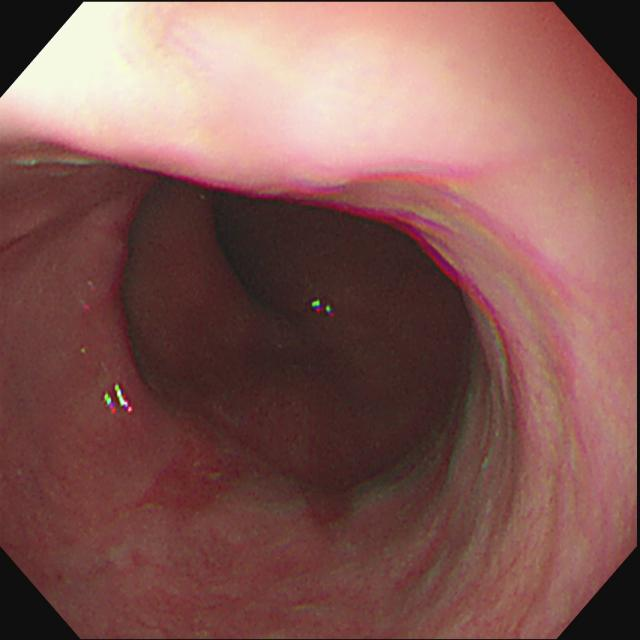D: (129, 438, 248, 516)
E: (204, 190, 278, 319)
U: (103, 382, 132, 416), (309, 299, 332, 318)
